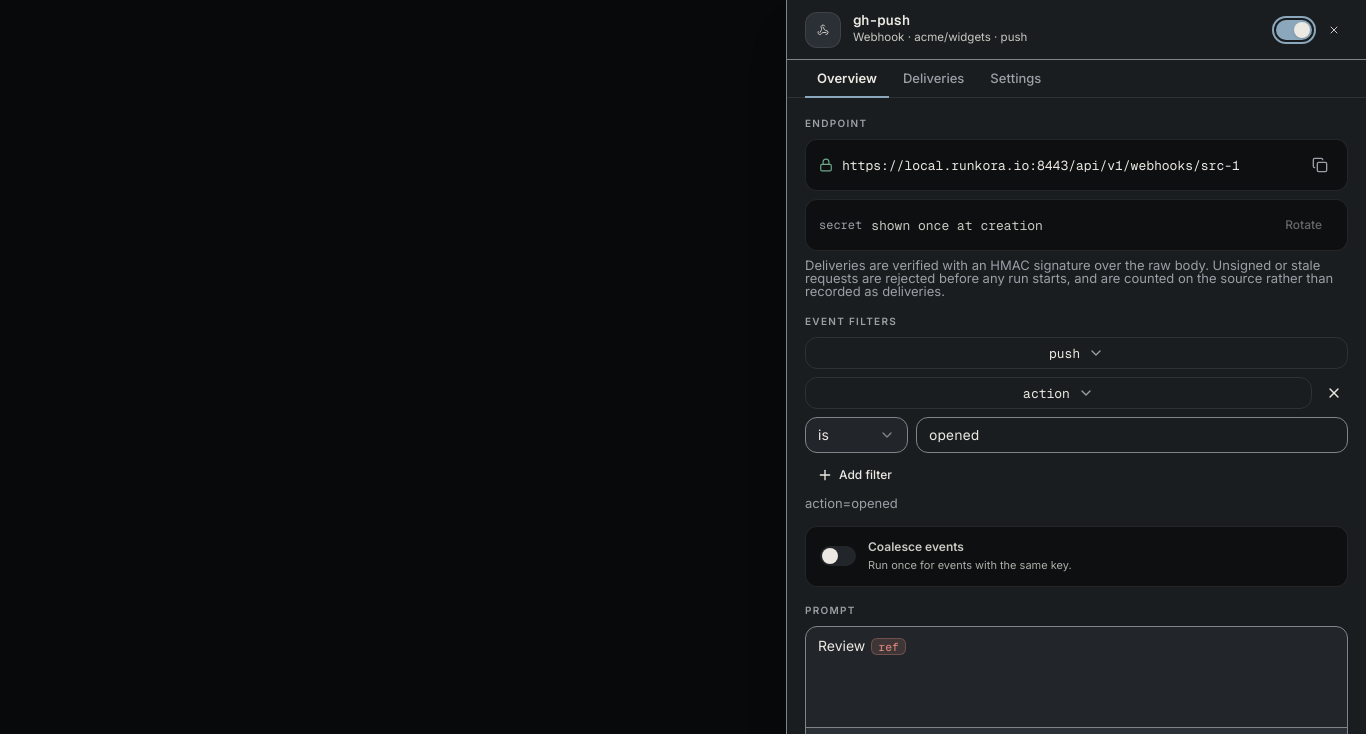
it: event and filter editing › grows a save row once a filter changes, and drops it on discard
Replace the text in the field named "Filter 1 values" with "closed": (1132, 435) [916,417,1348,453]
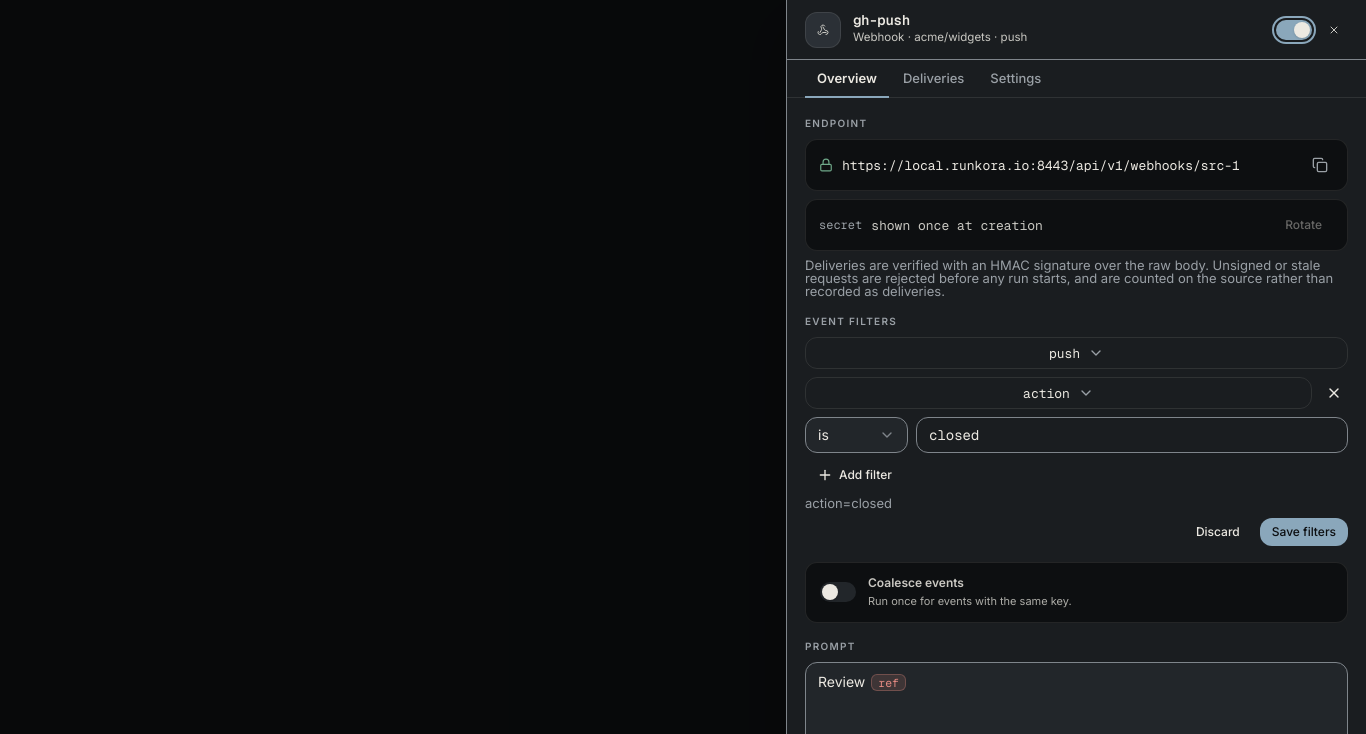
expect the button "Save filters" is shown: met, box [1260,518,1348,546]
Click the button "Discard": (1218, 532) [1184,518,1252,546]
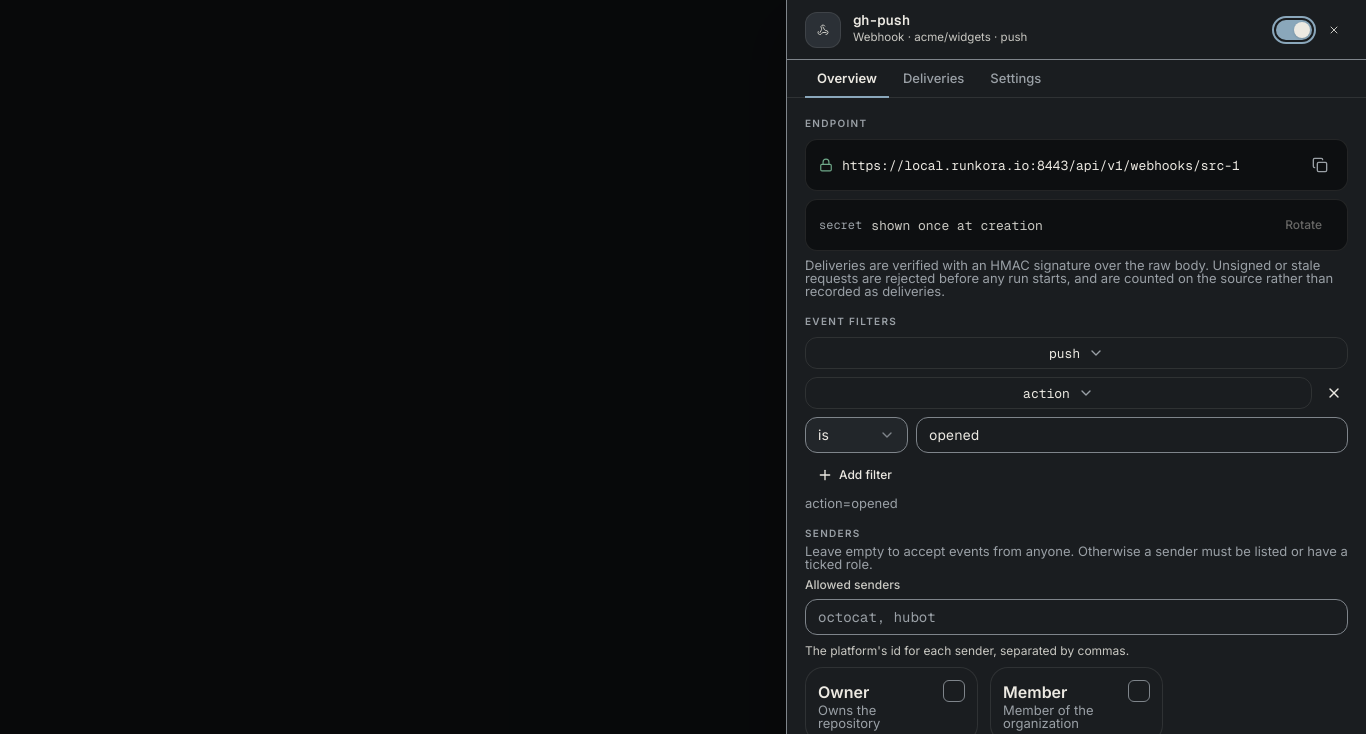
expect the button "Save filters" is gone: met
expect the field named "Filter 1 values" holds "opened": met, box [916,417,1348,453]
